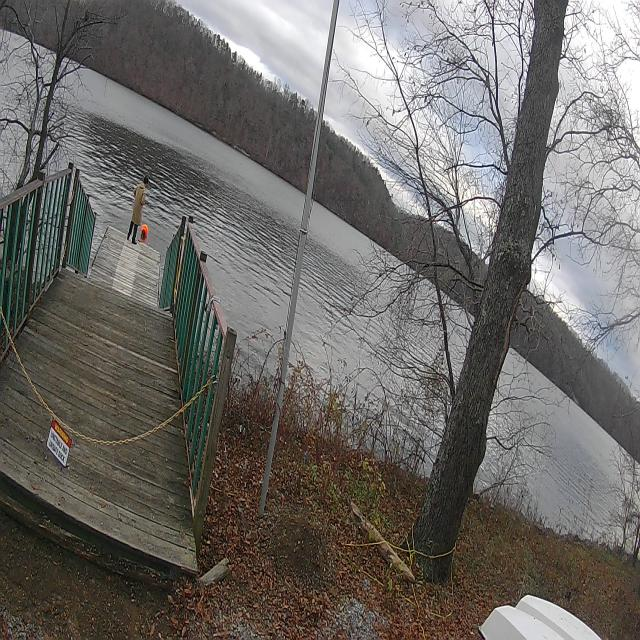Buoy: (137, 215, 151, 253)
